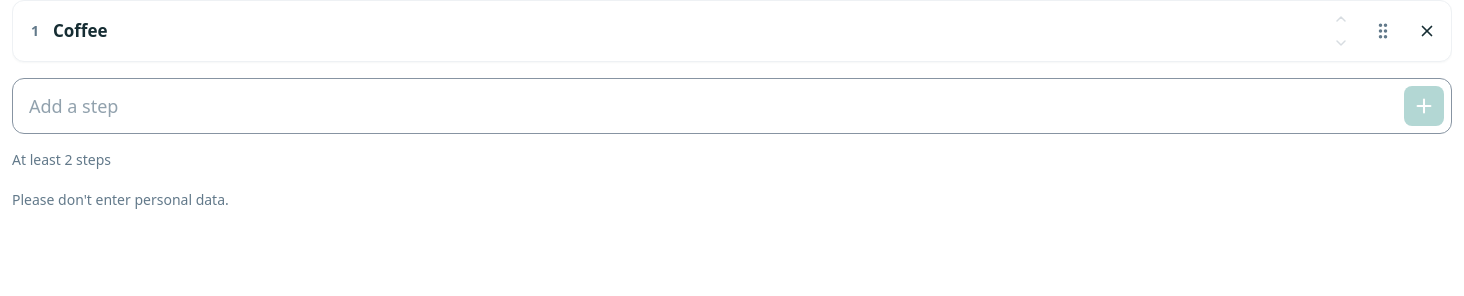
TraceEditor (free) › allows duplicates when repeats are on
Type "Coffee" into the dropdown with test id "trace-input".
click(732, 106); type("Coffee")  # box [12,78,1452,134]
Then press Enter
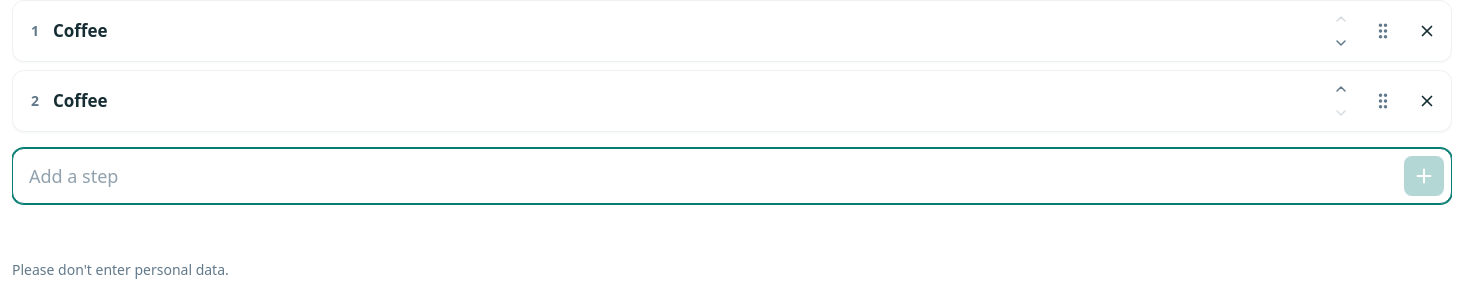
Check: the number of list items with test id "trace-item" is 2, box [12,0,1452,62]; [12,70,1452,132]
